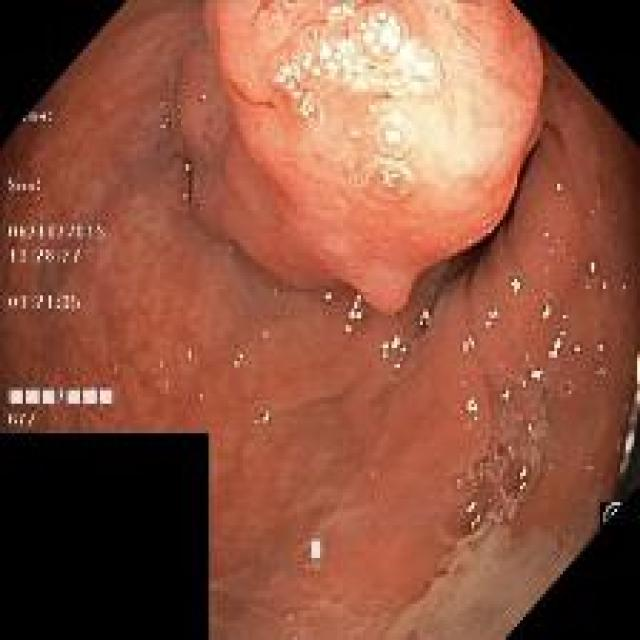Polyps: (176, 3, 545, 314)
